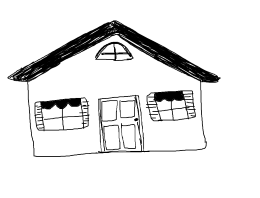closed_window: (145, 87, 197, 128), (34, 97, 89, 131), (93, 41, 134, 62)
door: (93, 88, 147, 157)
shaded_roof: (6, 15, 221, 84)
wall: (24, 32, 207, 159)
